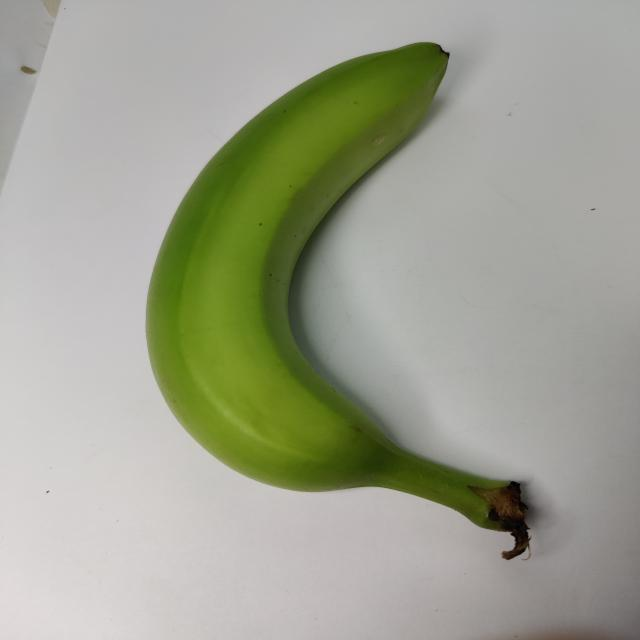raw: (115, 28, 585, 572)
